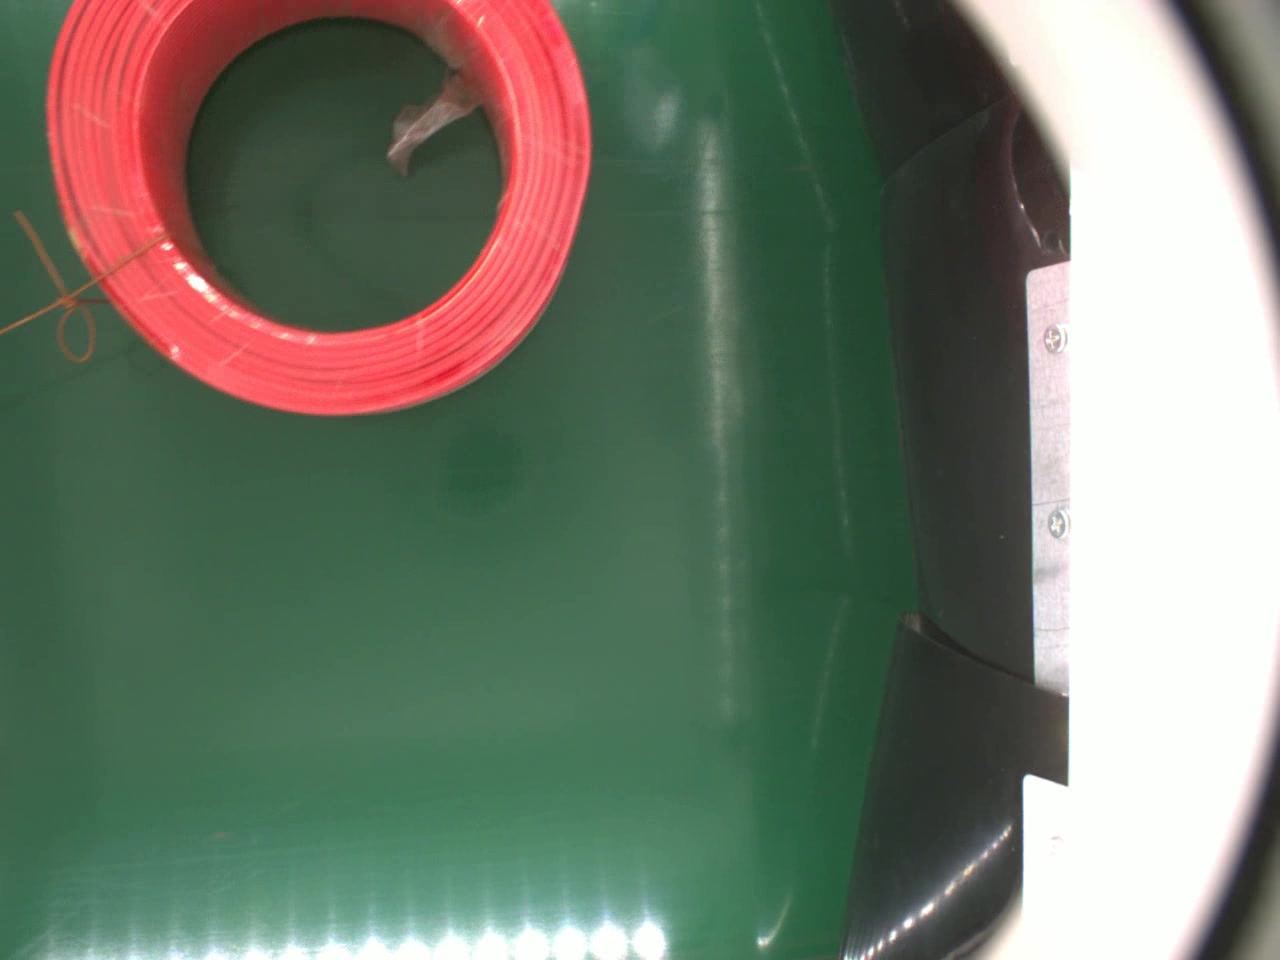red: (42, 0, 593, 418)
